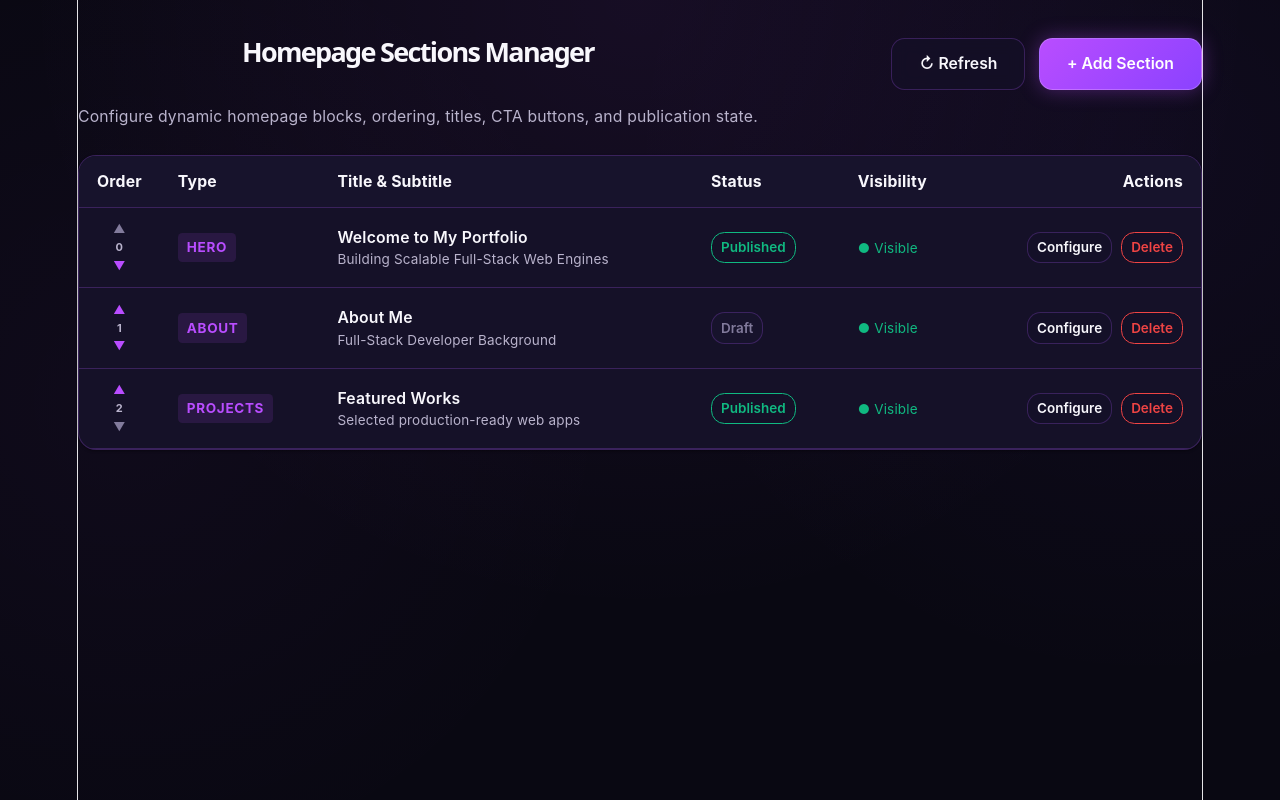
Test case: HomepageSectionManager Component (src/pages/admin/HomepageSectionManager.jsx) › 2. Opens configuration modal and updates hero section config
Check: the text "Welcome to My Portfolio" is shown, box [337,228,528,247]
Click the button "Configure" in the row of "hero". click: (1070, 248)
box: [1027,232,1112,263]
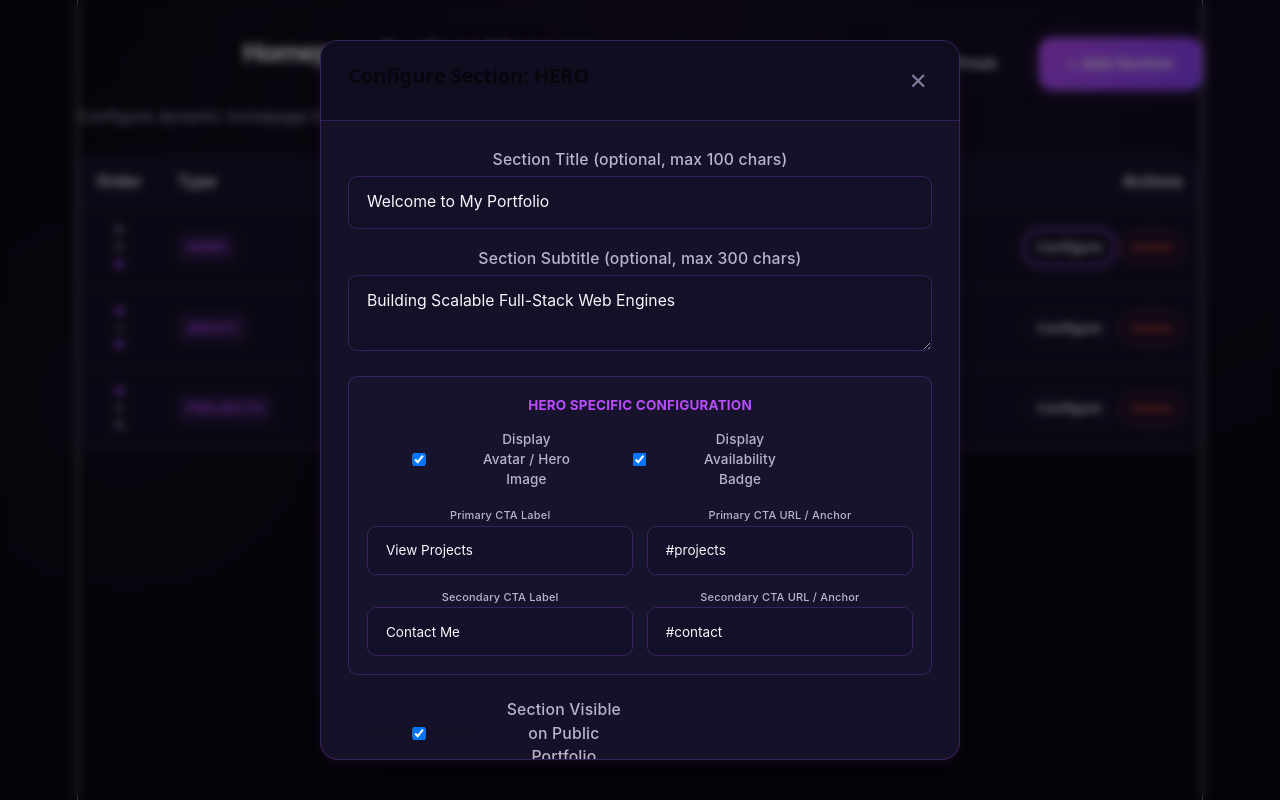
Replace the text in the field labelled "Section Title (optional, max 100 chars)" with "Updated Hero Heading". click: (640, 202)
box: [348,176,932,228]
(page scrolled)
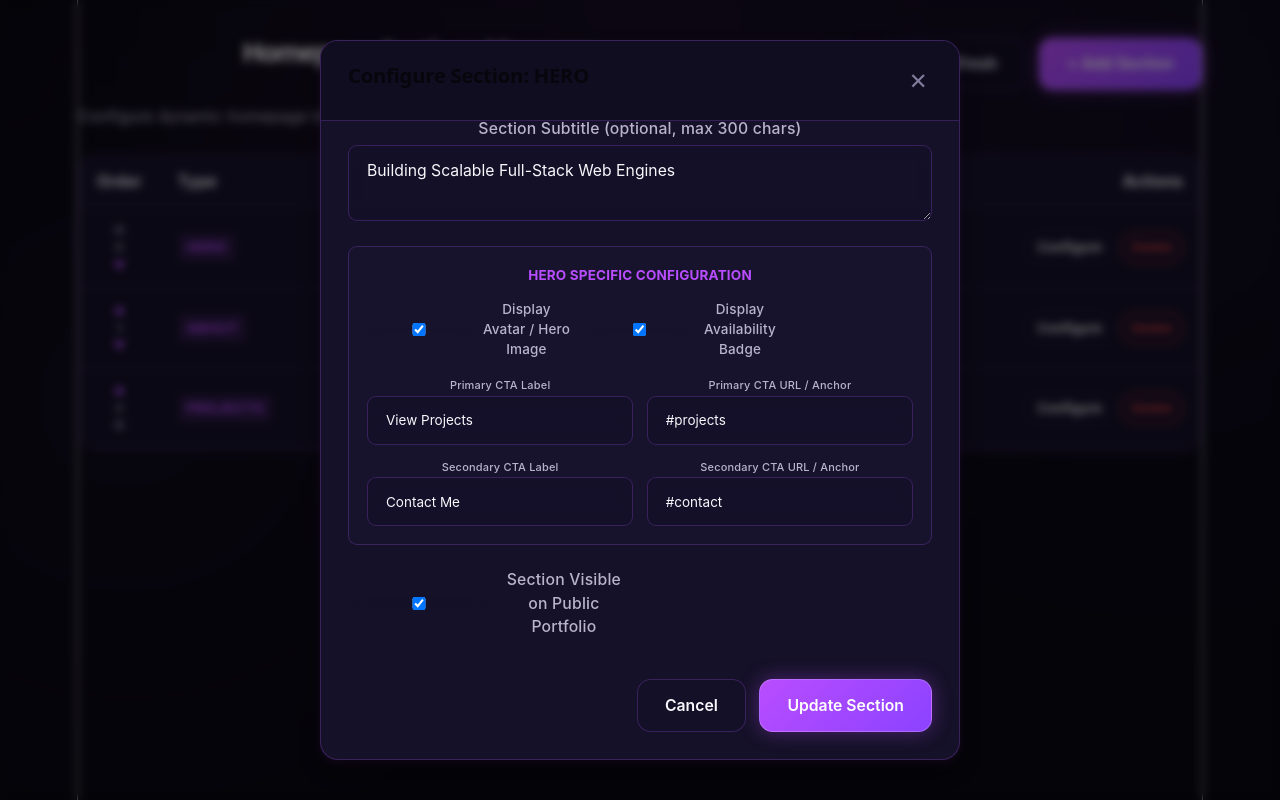
Click the button "Update Section". click: (846, 706)
box: [759,679,932,732]
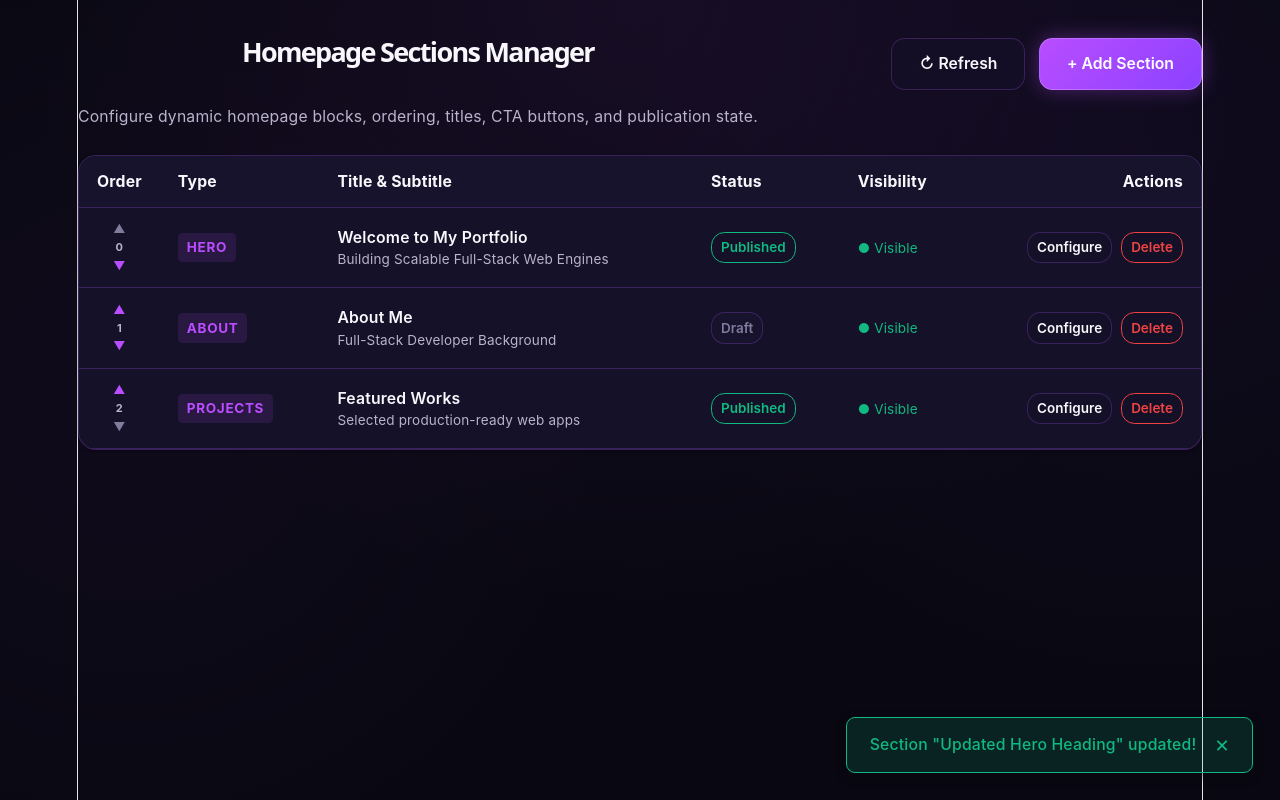
Check: the text "Section \"Updated Hero Heading\" updated!" is shown, box [870,733,1196,757]
